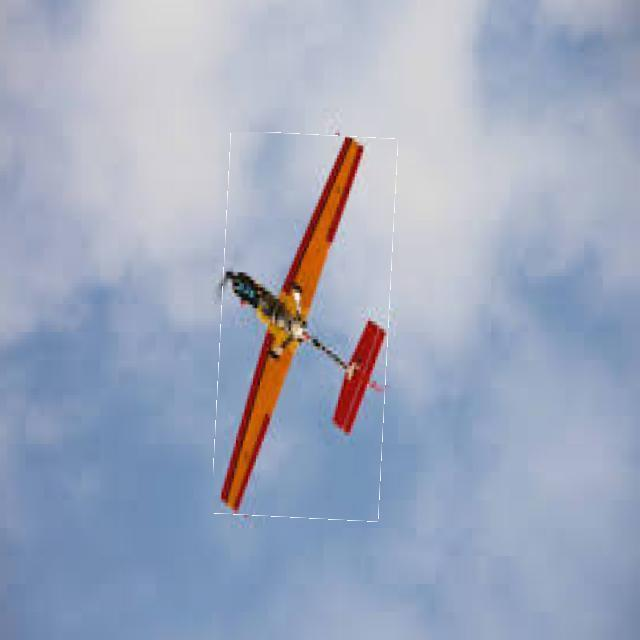UAV: (228, 132, 386, 532), (144, 122, 146, 510)
